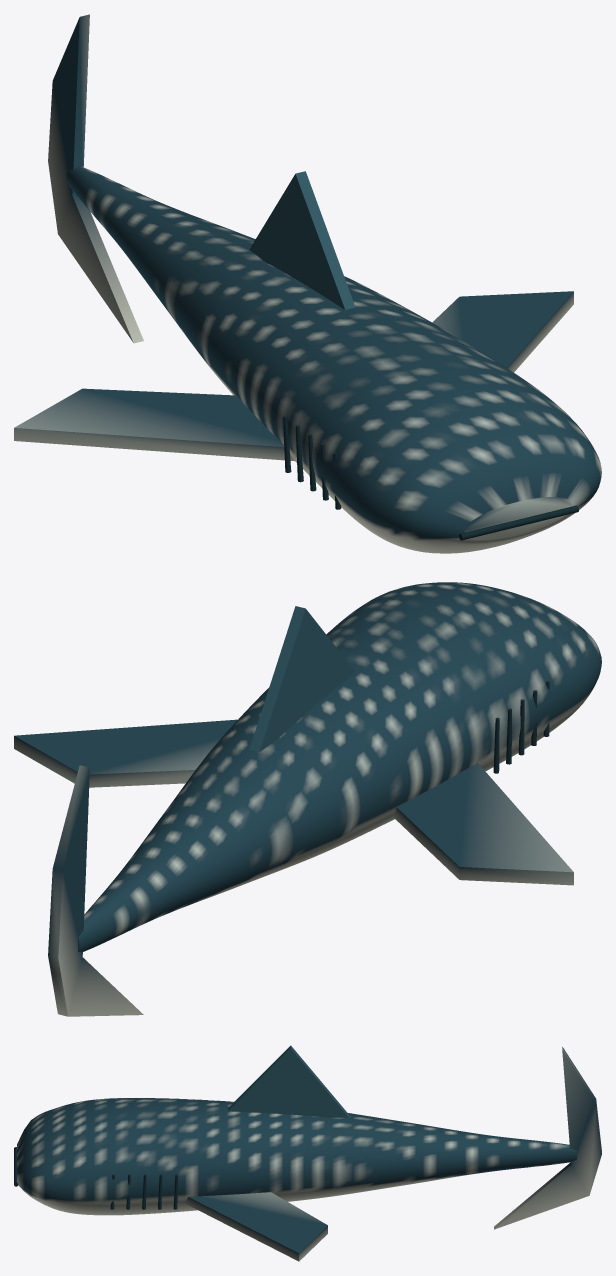
The model's file is whale_shark.glb.
3 views of the same model, one above another, from view 1: azimuth 30°, elevation 25°; view 2: azimuth 150°, elevation 25°; view 3: azimuth 270°, elevation 25° (orthographic). The views are drawn at different scales.
Parts seen in each view (by area): view 1: Pelagic.whale_shark.Surface; view 2: Pelagic.whale_shark.Surface; view 3: Pelagic.whale_shark.Surface.
Part boxes in pixels (bbox=[...]): Pelagic.whale_shark.Surface: bbox=[14, 14, 601, 553]; Pelagic.whale_shark.Surface: bbox=[14, 582, 601, 1016]; Pelagic.whale_shark.Surface: bbox=[14, 1045, 601, 1261].
Size of the model in its own units: 4.9 by 2.41 by 7.09.
